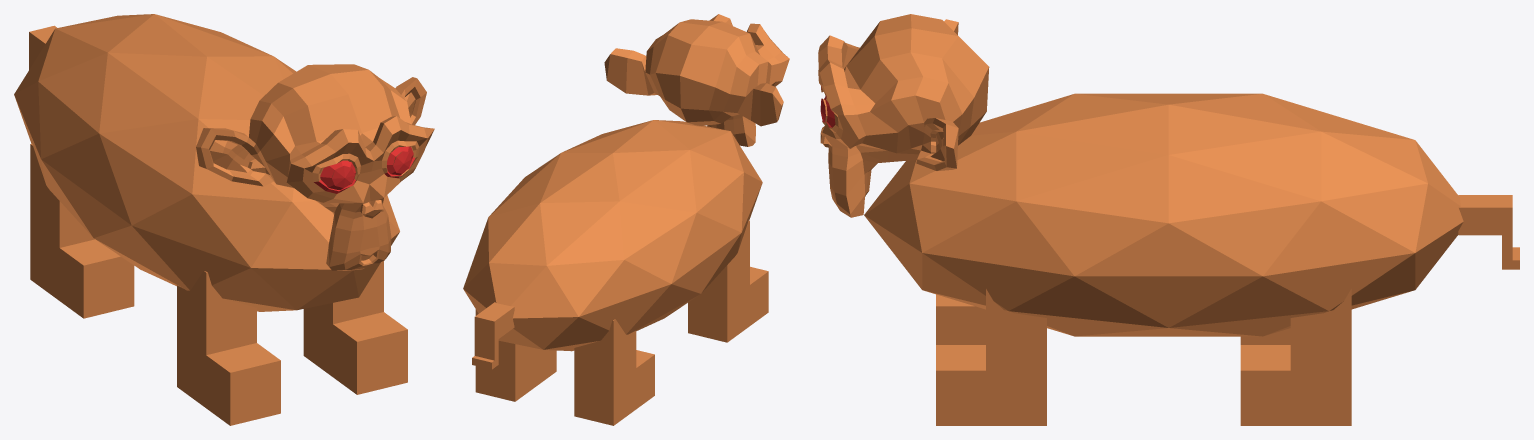
Rendered from definitelyalion.fbx.
3 renders of one model, left to right at view 1: azimuth 30°, elevation 25°; view 2: azimuth 150°, elevation 25°; view 3: azimuth 270°, elevation 25°, orthographic. The views are drawn at different scales.
Visible parts, largest first — view 1: Cube; view 2: Cube; view 3: Cube.
Boxes of the visible parts, x1=… form: Cube: x1=14, y1=14, x2=434, y2=425; Cube: x1=463, y1=14, x2=789, y2=425; Cube: x1=818, y1=14, x2=1519, y2=425.
Bounding box in the file's own units: 951 × 1276 × 2302.
